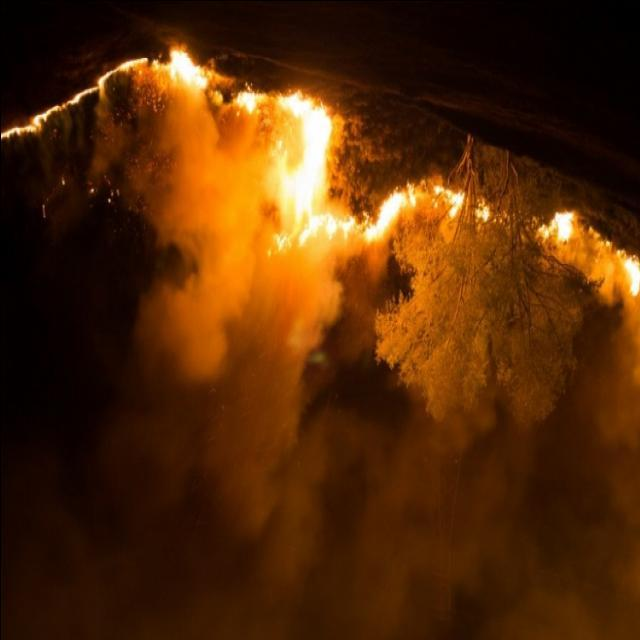Fire: (160, 54, 346, 262), (370, 174, 492, 256), (541, 210, 640, 300)
